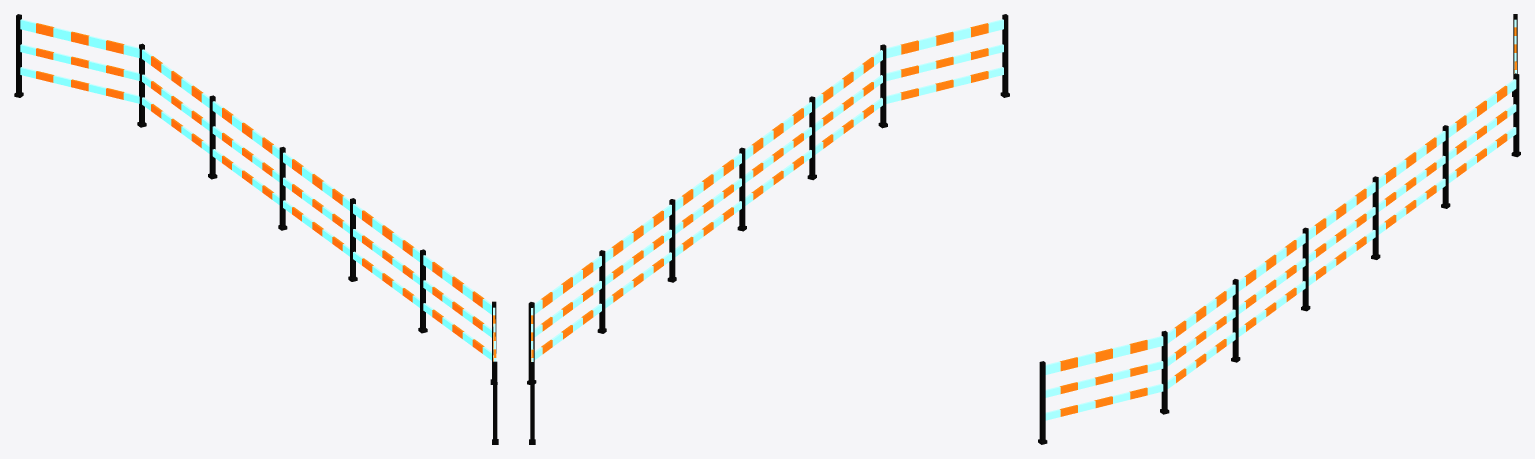
File: Props_Fence.fbx
3 renders of one model, left to right at view 1: azimuth 30°, elevation 25°; view 2: azimuth 150°, elevation 25°; view 3: azimuth 330°, elevation 25°, orthographic.
Parts seen in each view (by area): view 1: Props_Fence; view 2: Props_Fence; view 3: Props_Fence.
Part boxes in pixels (bbox=[...]): Props_Fence: bbox=[14, 14, 498, 444]; Props_Fence: bbox=[527, 14, 1009, 444]; Props_Fence: bbox=[1038, 14, 1520, 444].
Size of the model in its own units: 354 by 392 by 4212.
